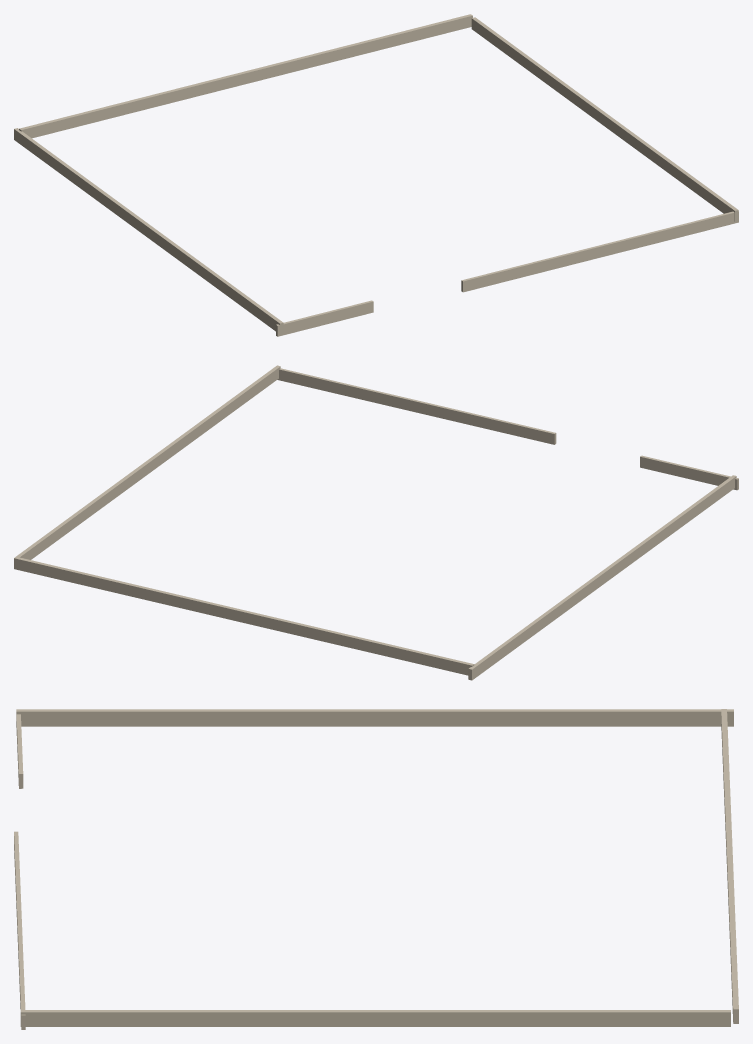
File: SkirtingGroup.fbx
3 views of the same model, one above another, from view 1: azimuth 30°, elevation 25°; view 2: azimuth 150°, elevation 25°; view 3: azimuth 270°, elevation 25° (orthographic). The views are drawn at different scales.
Visible parts, largest first — view 1: Skirting004, Skirting001, Skirting003, Skirting002, Skirting005; view 2: Skirting004, Skirting001, Skirting003, Skirting002, Skirting005; view 3: Skirting001, Skirting003, Skirting004, Skirting002.
Part boxes in pixels (x1,y1,x2,y2): Skirting004: [19, 14, 472, 138]; Skirting001: [14, 128, 283, 334]; Skirting003: [471, 17, 738, 221]; Skirting002: [461, 211, 738, 292]; Skirting005: [276, 300, 373, 336]; Skirting004: [14, 556, 474, 675]; Skirting001: [468, 475, 736, 680]; Skirting003: [16, 365, 280, 559]; Skirting002: [277, 368, 556, 444]; Skirting005: [640, 455, 738, 490]; Skirting001: [16, 709, 733, 726]; Skirting003: [20, 1010, 730, 1026]; Skirting004: [721, 709, 738, 1023]; Skirting002: [14, 831, 25, 1029].
Size of the model in its own units: 403 by 11.85 by 405.
